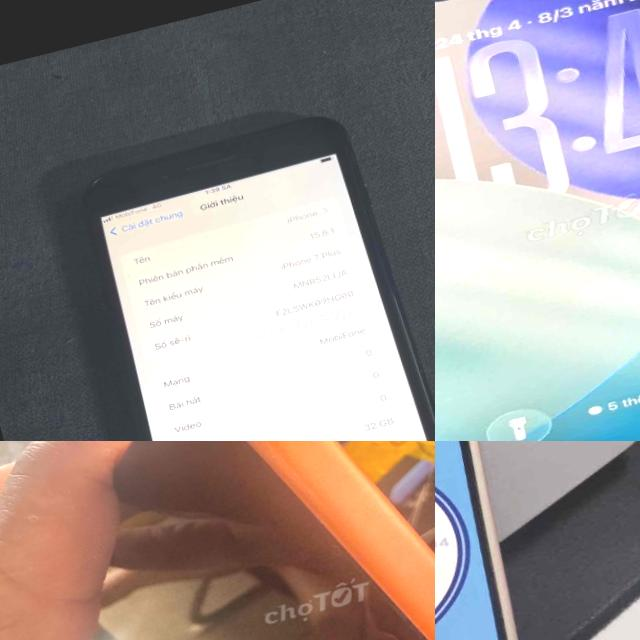gen_12_13: (435, 0, 640, 441)
gen_15: (435, 441, 565, 640)
gen_17: (105, 441, 435, 640)
gen_7_8: (52, 100, 435, 441)
